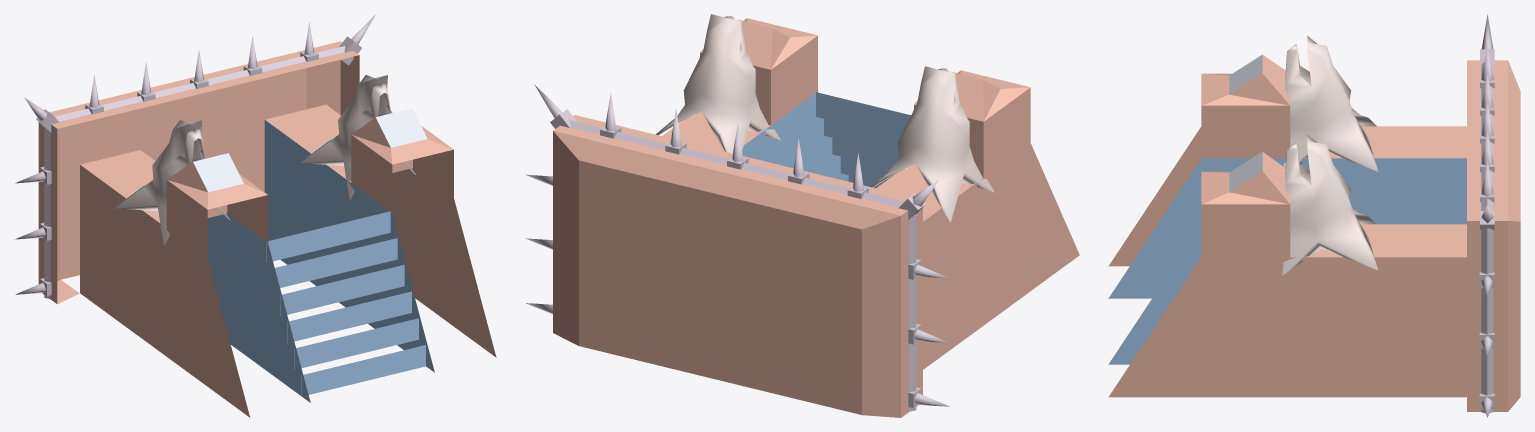
The picture shows the model from 3 angles, left to right: view 1: azimuth 30°, elevation 25°; view 2: azimuth 150°, elevation 25°; view 3: azimuth 270°, elevation 25°; orthographic projection. The views are drawn at different scales.
Parts seen in each view (by area): view 1: Object17; view 2: Object17; view 3: Object17.
Part boxes in pixels (x1=…): Object17: x1=14, y1=14, x2=496, y2=417; Object17: x1=525, y1=14, x2=1079, y2=417; Object17: x1=1108, y1=14, x2=1520, y2=417.
Size of the model in its own units: 59720 by 34078 by 52987.
